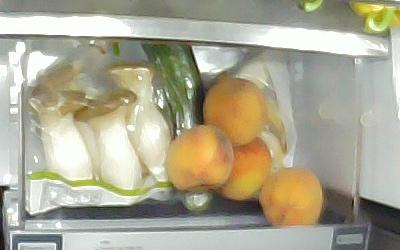peach: (167, 125, 235, 192), (203, 80, 267, 144), (215, 135, 273, 201), (259, 168, 323, 223)
